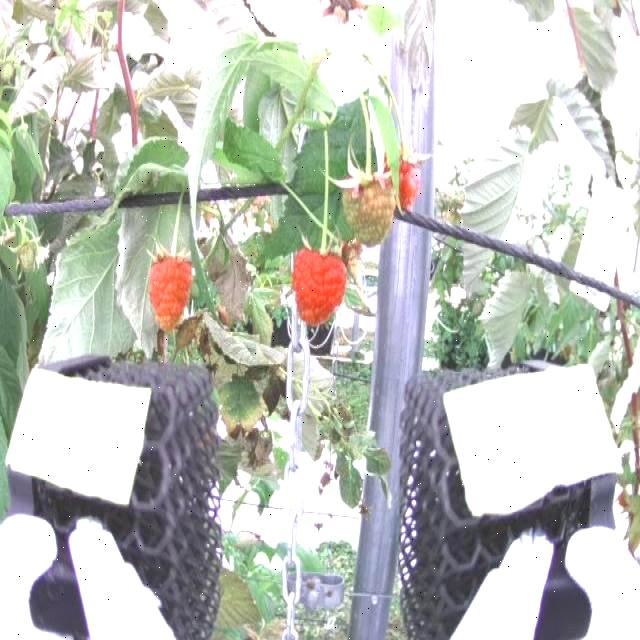Riped berries: (145, 243, 197, 332), (292, 243, 348, 325), (382, 147, 427, 212)
